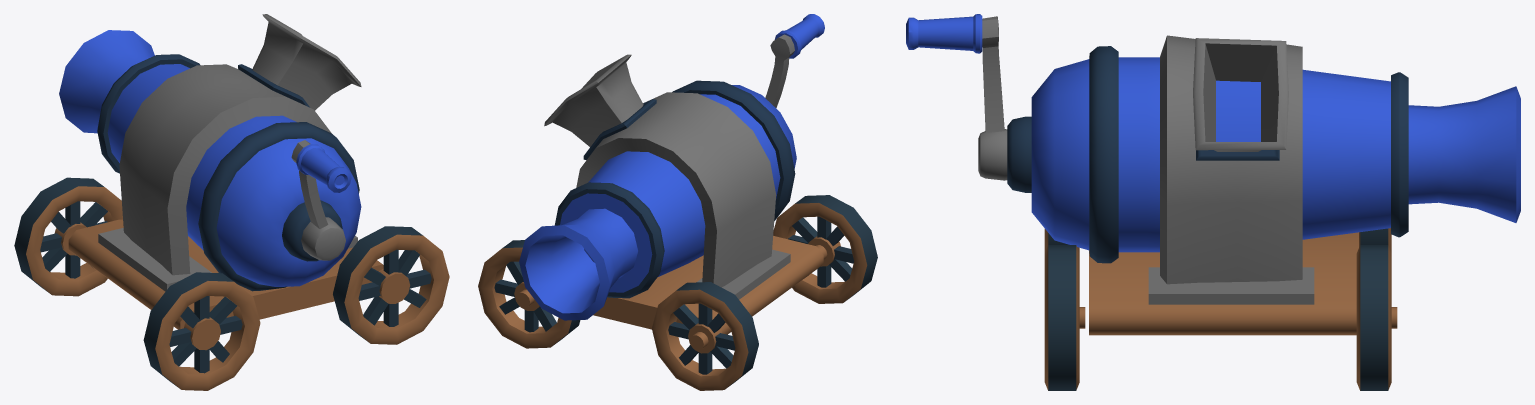
File: WP_Cannonball.fbx
3 renders of one model, left to right at view 1: azimuth 30°, elevation 25°; view 2: azimuth 150°, elevation 25°; view 3: azimuth 270°, elevation 25°, orthographic. The views are drawn at different scales.
Parts seen in each view (by area): view 1: Cylinder.001, Cylinder.003, Cylinder.006, Cylinder.005, Cube, Cylinder.007, Cylinder.002; view 2: Cylinder.001, Cylinder.003, Cylinder.006, Cube, Cylinder.005, Cylinder.007, Cylinder.002; view 3: Cylinder.001, Cylinder.003, Cube, Cylinder.007, Cylinder.005, Cylinder.002, Cylinder.006.
Part boxes in pixels (x1=…): Cylinder.001: x1=59, y1=30, x2=361, y2=291; Cylinder.003: x1=98, y1=64, x2=357, y2=291; Cylinder.006: x1=14, y1=177, x2=260, y2=390; Cylinder.005: x1=333, y1=226, x2=449, y2=344; Cube: x1=68, y1=219, x2=383, y2=329; Cylinder.007: x1=238, y1=14, x2=361, y2=110; Cylinder.002: x1=291, y1=140, x2=351, y2=260; Cylinder.001: x1=519, y1=80, x2=796, y2=320; Cylinder.003: x1=576, y1=92, x2=790, y2=299; Cylinder.006: x1=652, y1=195, x2=877, y2=390; Cube: x1=593, y1=236, x2=823, y2=334; Cylinder.005: x1=478, y1=240, x2=580, y2=348; Cylinder.007: x1=544, y1=54, x2=656, y2=159; Cylinder.002: x1=765, y1=14, x2=824, y2=107; Cylinder.001: x1=1007, y1=46, x2=1520, y2=263; Cylinder.003: x1=1148, y1=35, x2=1314, y2=304; Cube: x1=1089, y1=232, x2=1358, y2=335; Cylinder.007: x1=1193, y1=38, x2=1288, y2=160; Cylinder.005: x1=1044, y1=245, x2=1397, y2=390; Cylinder.002: x1=906, y1=14, x2=1007, y2=180; Cylinder.006: x1=1044, y1=228, x2=1391, y2=252.
Size of the model in its own units: 4.21 by 3.69 by 6.31.
